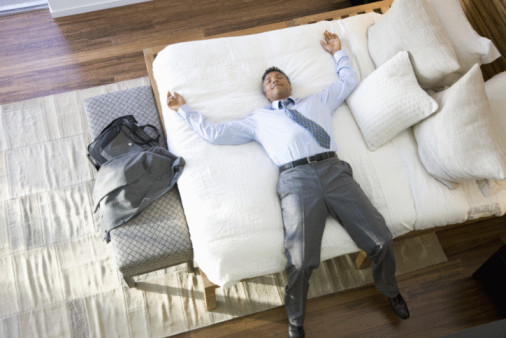deitado: (188, 38, 428, 338)
